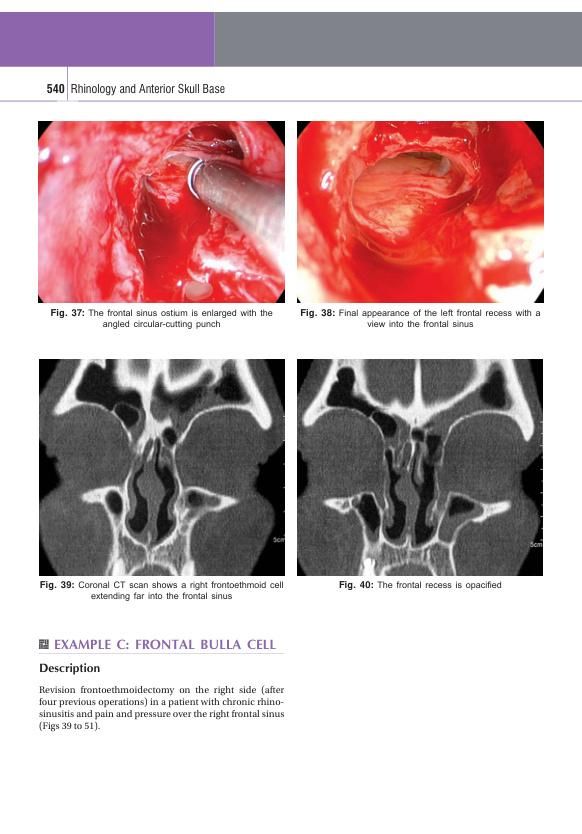caption: (39, 579, 284, 602), (49, 307, 274, 330), (299, 307, 541, 328), (338, 580, 503, 591)
header: (70, 82, 226, 96)
image: (38, 358, 286, 577), (296, 358, 544, 577), (37, 120, 286, 304), (296, 120, 545, 304)
section-heading: (54, 638, 277, 650)
sub-section-heading: (39, 661, 101, 676)
text: (38, 684, 285, 732)
